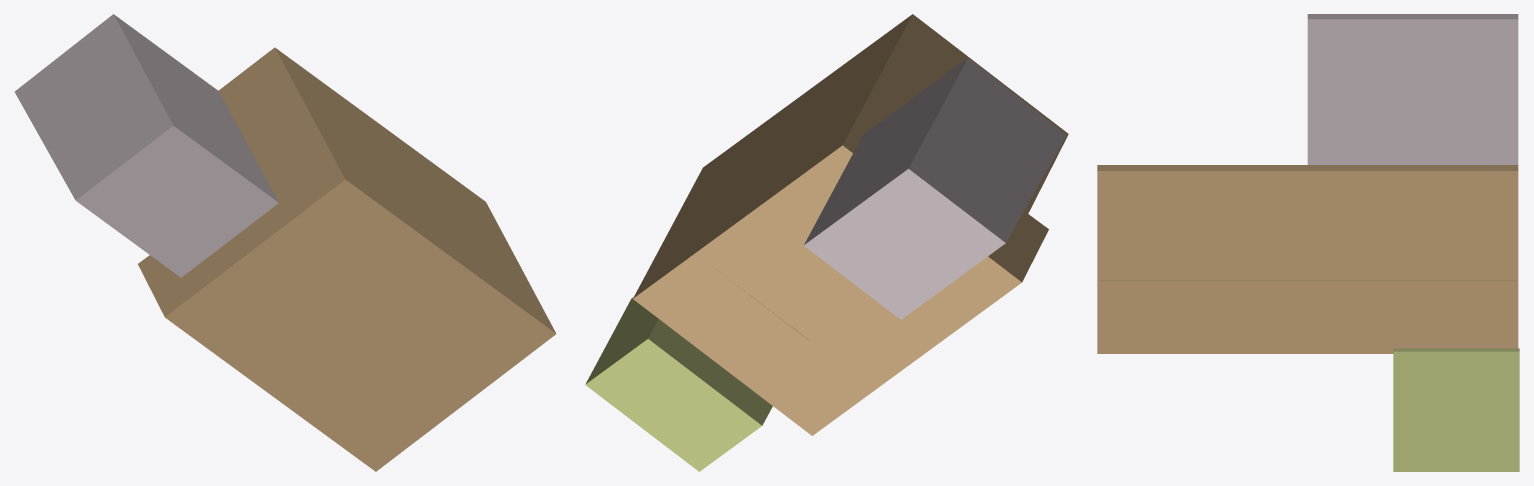
3 views of the same model, side by side, from view 1: azimuth 30°, elevation 25°; view 2: azimuth 150°, elevation 25°; view 3: azimuth 270°, elevation 25° (orthographic).
Parts seen in each view (by area): view 1: 0_1_0_2_0_3_1_0_2; view 2: 0_1_0_2_0_3_1_0_2; view 3: 0_1_0_2_0_3_1_0_2.
Boxes of the visible parts, box(x1,y1,x2,y2) form: 0_1_0_2_0_3_1_0_2: box(14, 14, 556, 471); 0_1_0_2_0_3_1_0_2: box(585, 14, 1068, 471); 0_1_0_2_0_3_1_0_2: box(1097, 14, 1519, 471).
Bounding box in the file's own units: 31.03 × 29.72 × 30.1.
